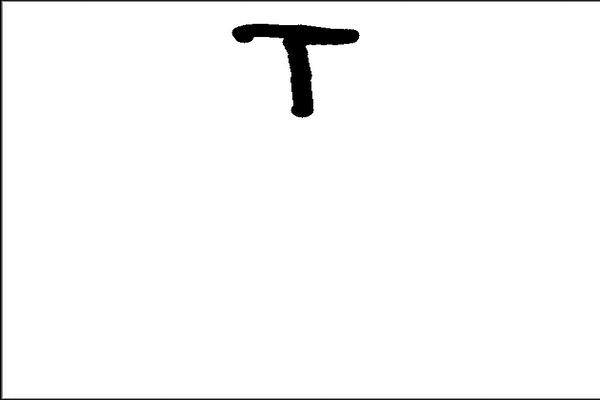T: (224, 16, 367, 122)
